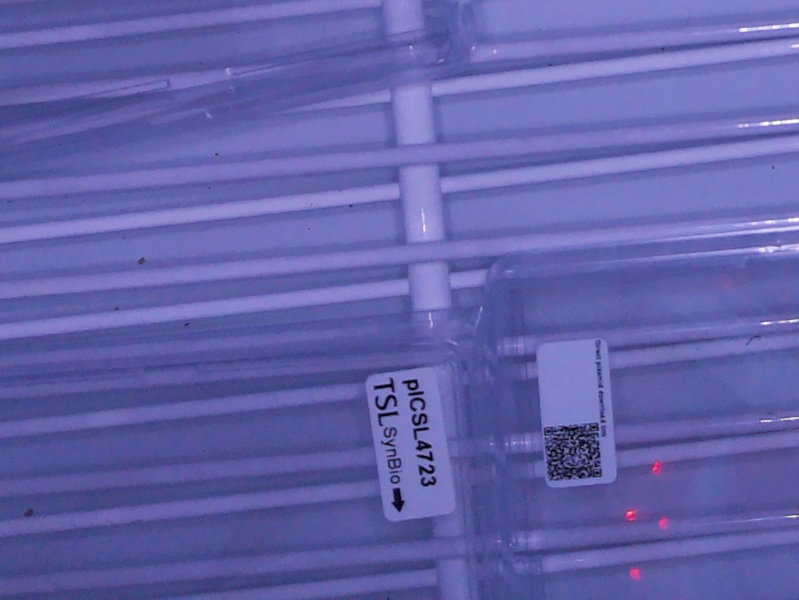plate: (1, 303, 503, 600), (485, 237, 799, 600), (1, 1, 476, 149)
